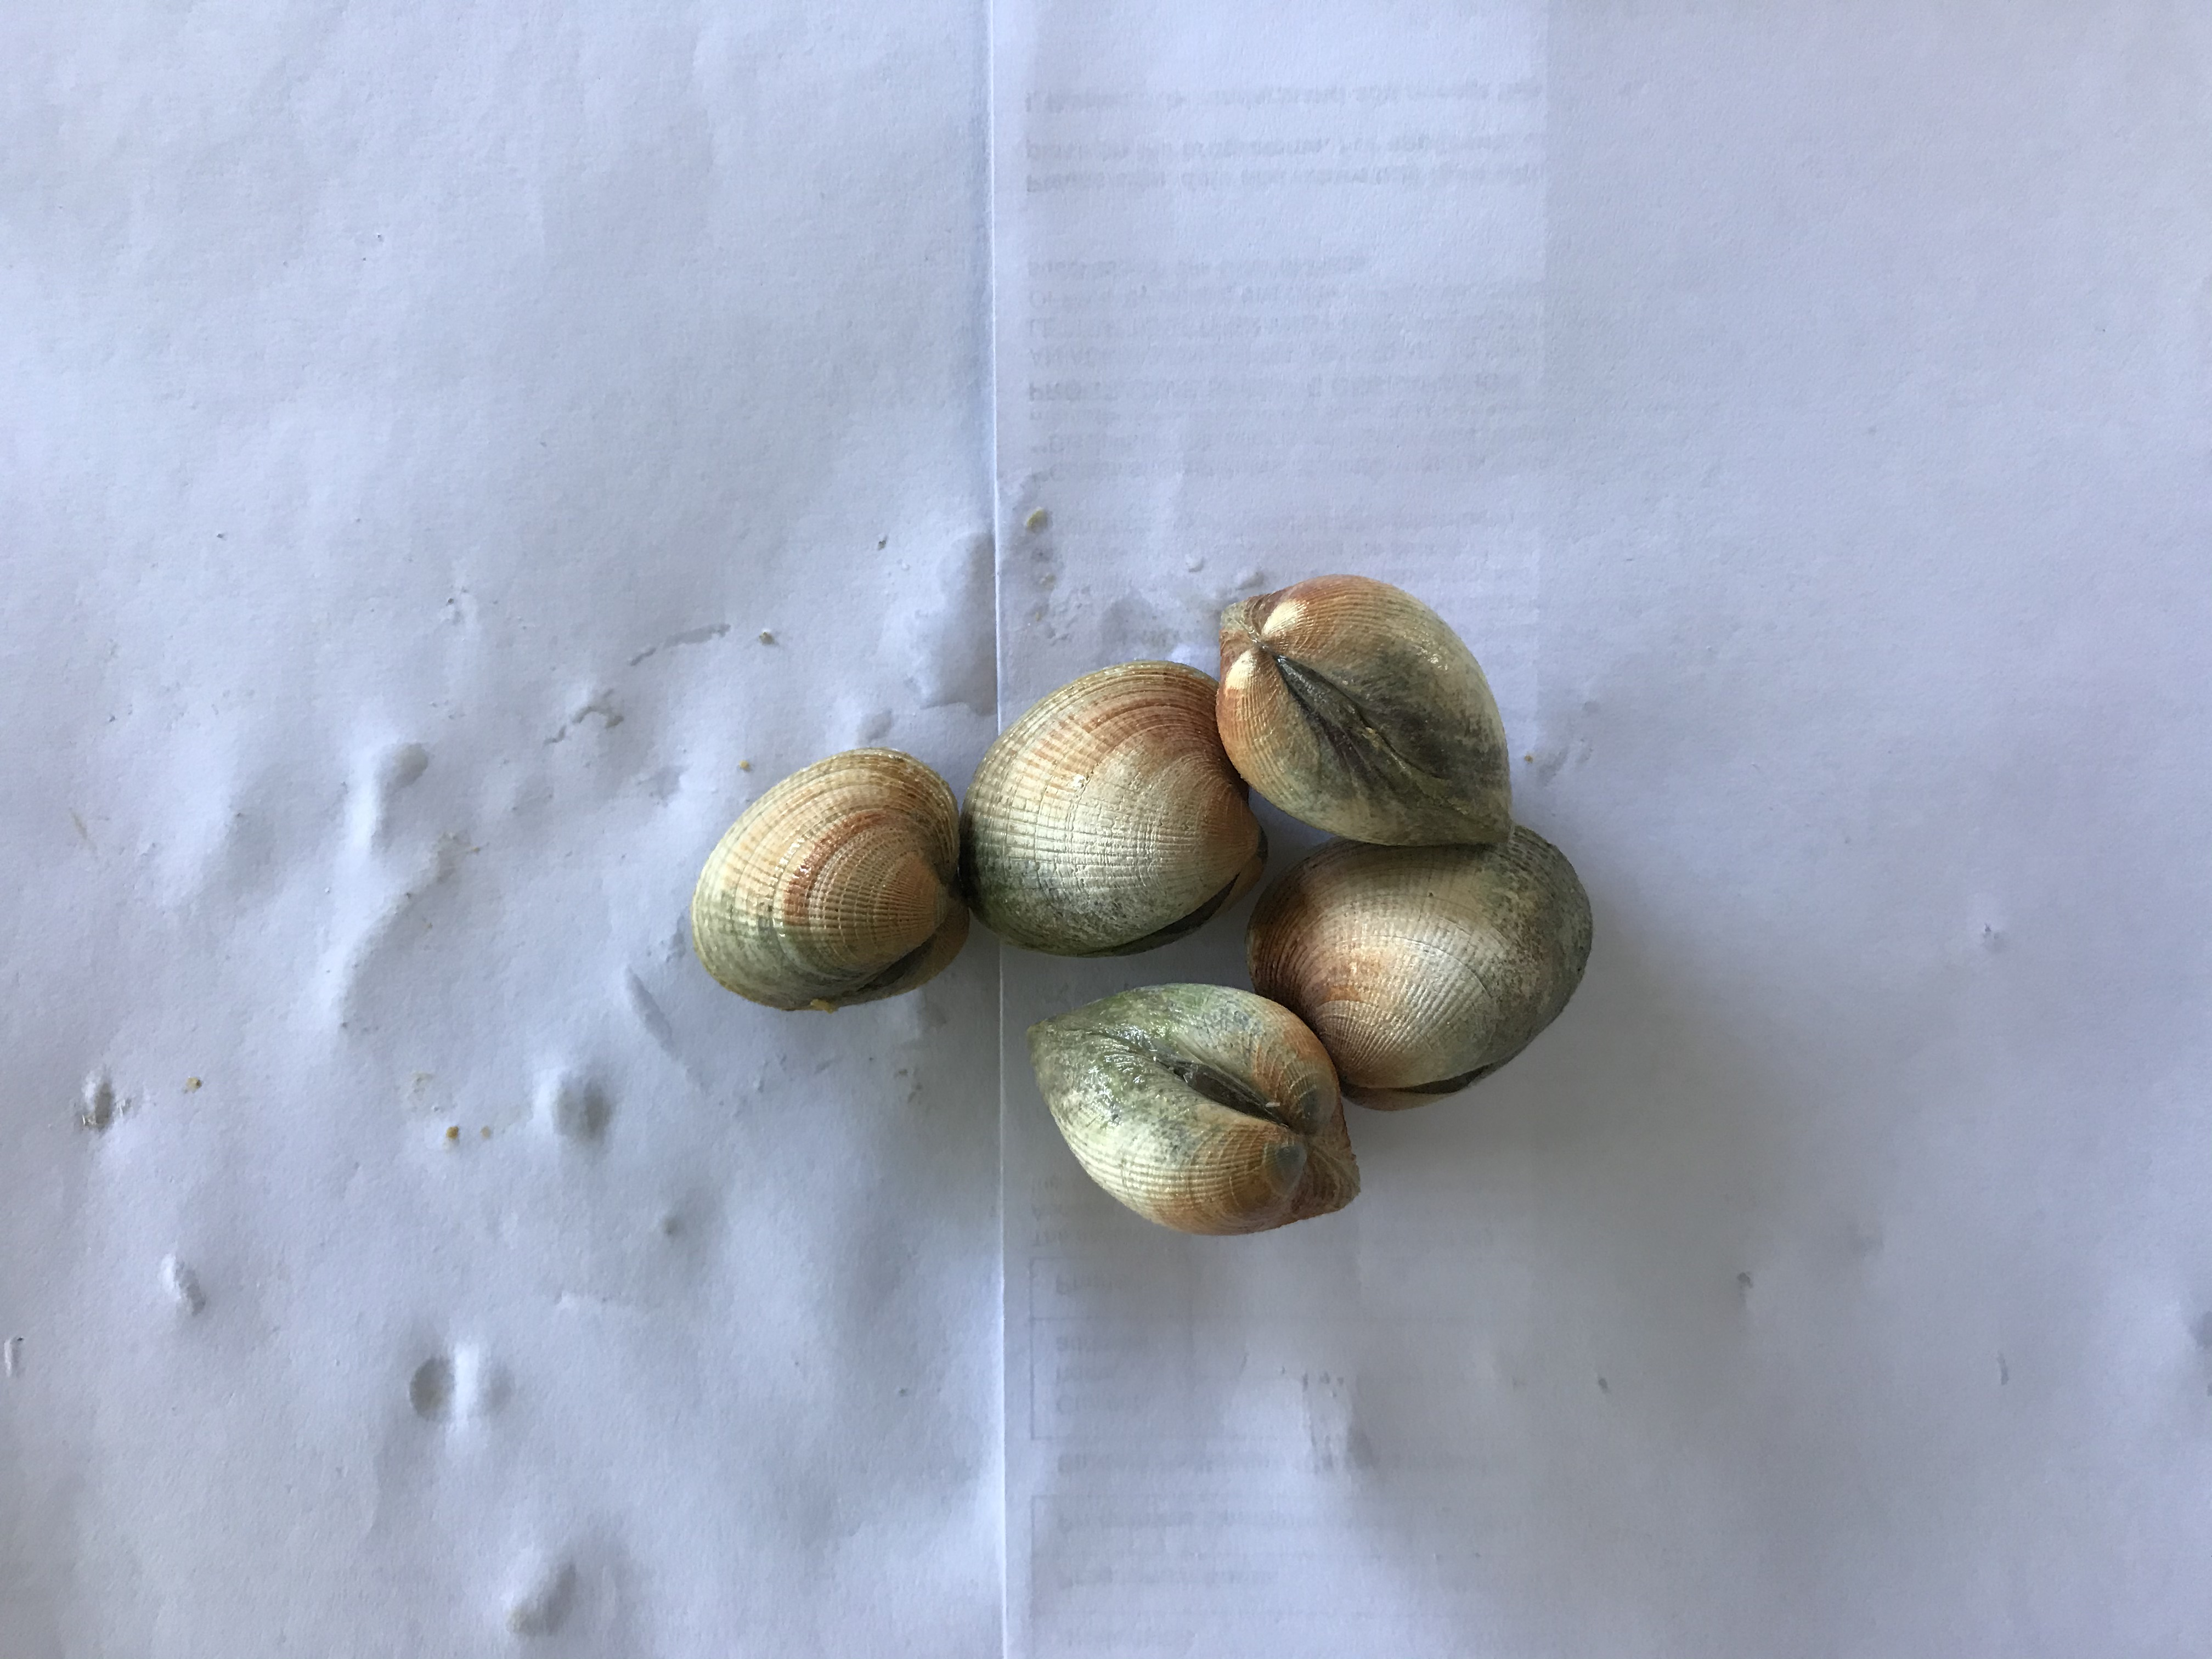cockle: (1237, 814, 1592, 1107), (949, 657, 1284, 967), (1012, 976, 1369, 1244), (1211, 570, 1521, 866), (681, 746, 982, 1018)
